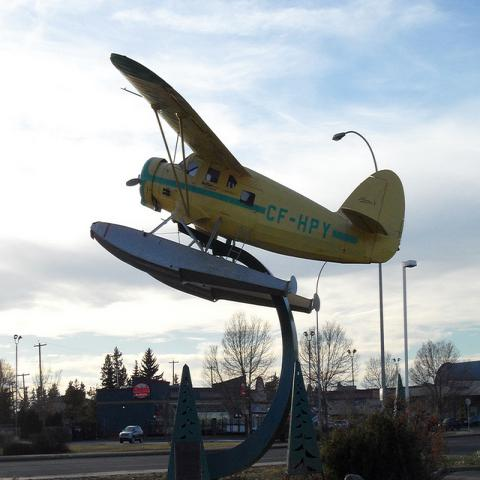car: (119, 425, 144, 443), (443, 418, 462, 432), (322, 422, 335, 432)
